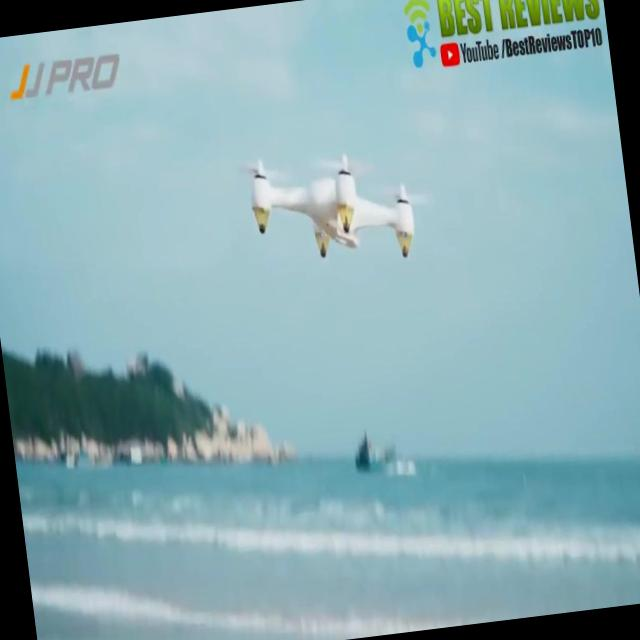drone: (243, 143, 420, 278)
